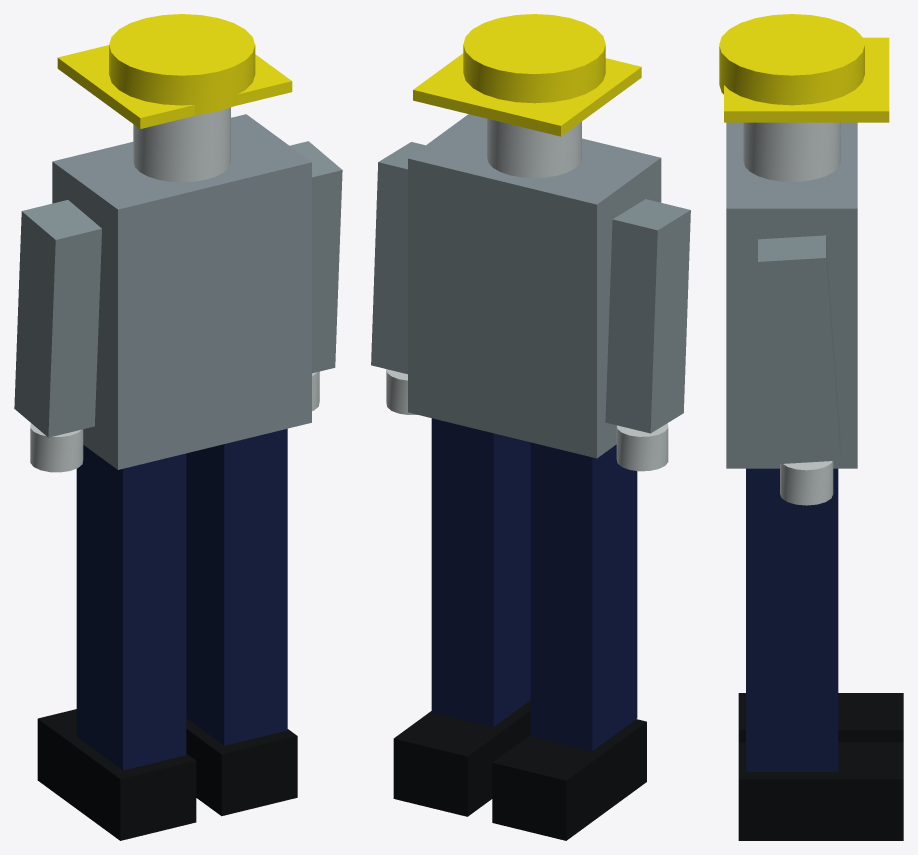
File: workshop_operator.dae
The picture shows the model from 3 angles, left to right: view 1: azimuth 30°, elevation 25°; view 2: azimuth 150°, elevation 25°; view 3: azimuth 270°, elevation 25°; orthographic projection. The views are drawn at different scales.
Parts seen in each view (by area): view 1: workshop_operator; view 2: workshop_operator; view 3: workshop_operator.
Boxes of the visible parts, bbox=[...] form: workshop_operator: bbox=[14, 14, 342, 840]; workshop_operator: bbox=[371, 14, 690, 840]; workshop_operator: bbox=[719, 14, 903, 840].
Size of the model in its own units: 0.68 by 0.38 by 1.71.
